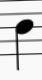B: (11, 0, 35, 74)
